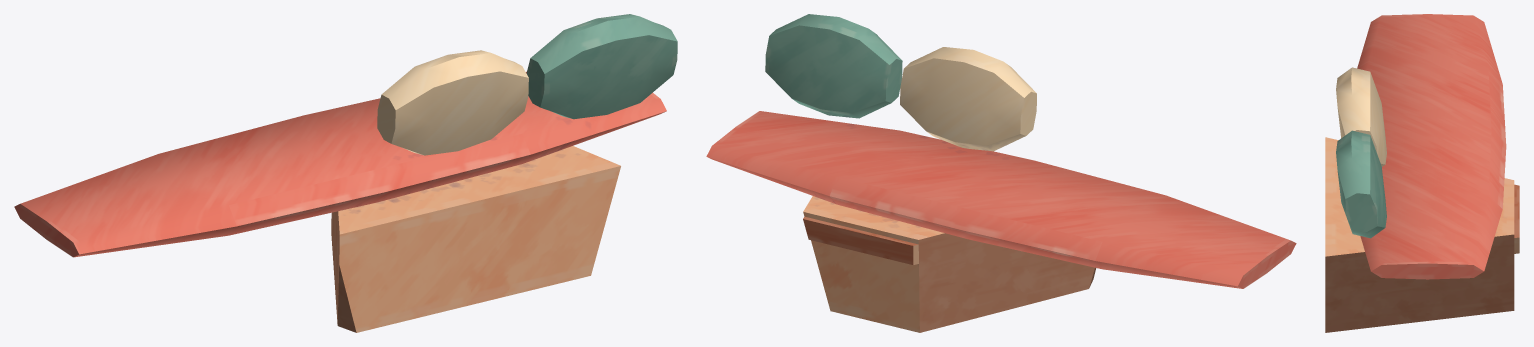
Rendered from divan_s04.fbx.
3 renders of one model, left to right at view 1: azimuth 30°, elevation 25°; view 2: azimuth 150°, elevation 25°; view 3: azimuth 270°, elevation 25°, orthographic. The views are drawn at different scales.
Parts seen in each view (by area): view 1: divan_s04; view 2: divan_s04; view 3: divan_s04.
Boxes of the visible parts, box(x1,y1,x2,y2) form: divan_s04: box(14, 14, 677, 332); divan_s04: box(706, 14, 1296, 332); divan_s04: box(1325, 14, 1519, 332).
Size of the model in its own units: 7.5 by 2.88 by 2.47.
